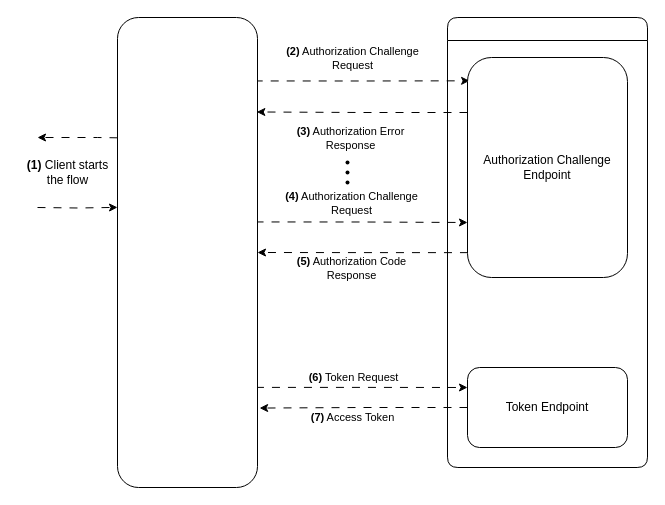
This 665x505 diagram has some shape labels left out. The box of each missing label's shape, as (x1, y1, x2, y2) in pixels:
Authorization Server: (446, 16, 648, 468)
First-Party Client: (116, 16, 258, 488)
